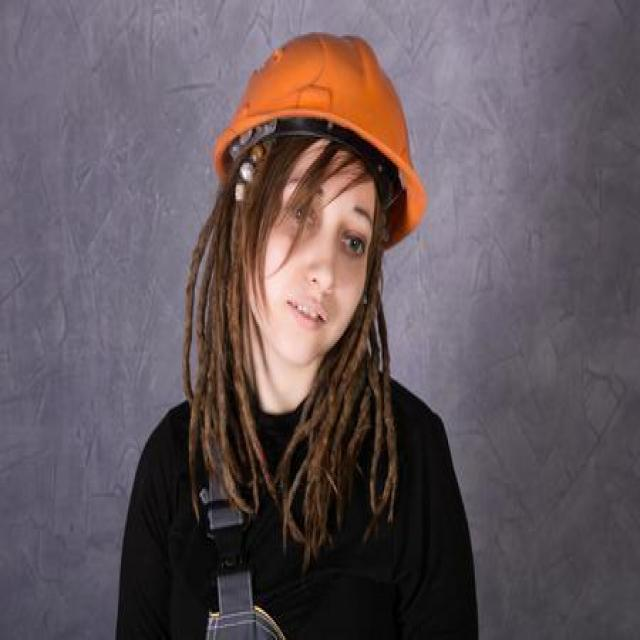hat: (214, 30, 426, 248)
